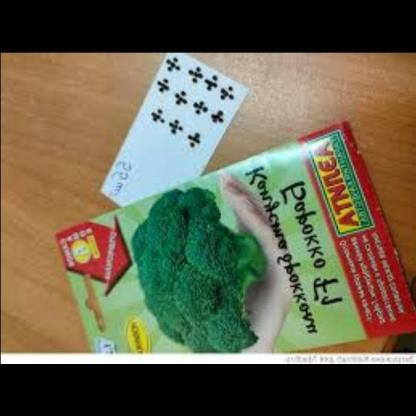broccoli: (121, 194, 277, 356)
